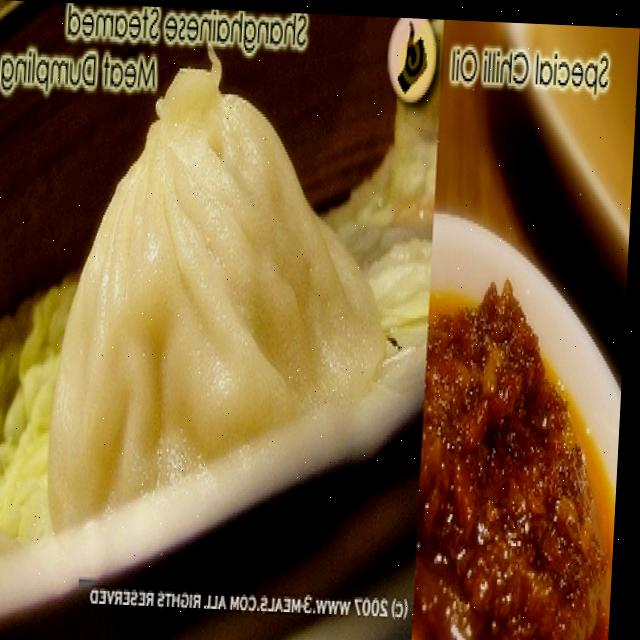带馅早点: (0, 63, 540, 622)
